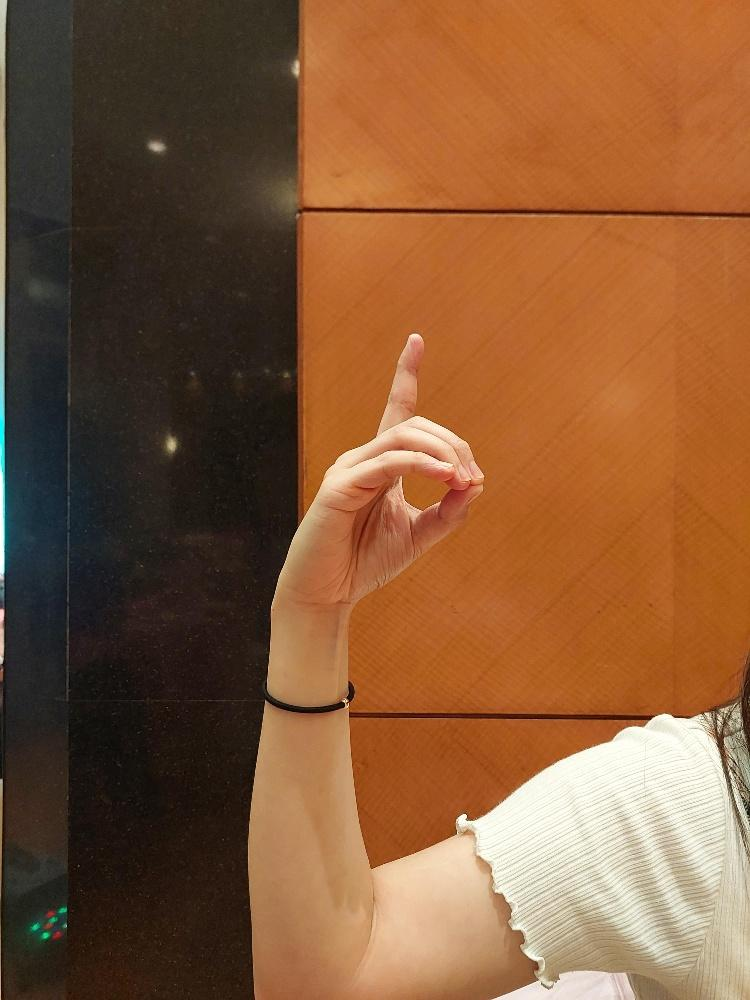d: (295, 330, 488, 609)
